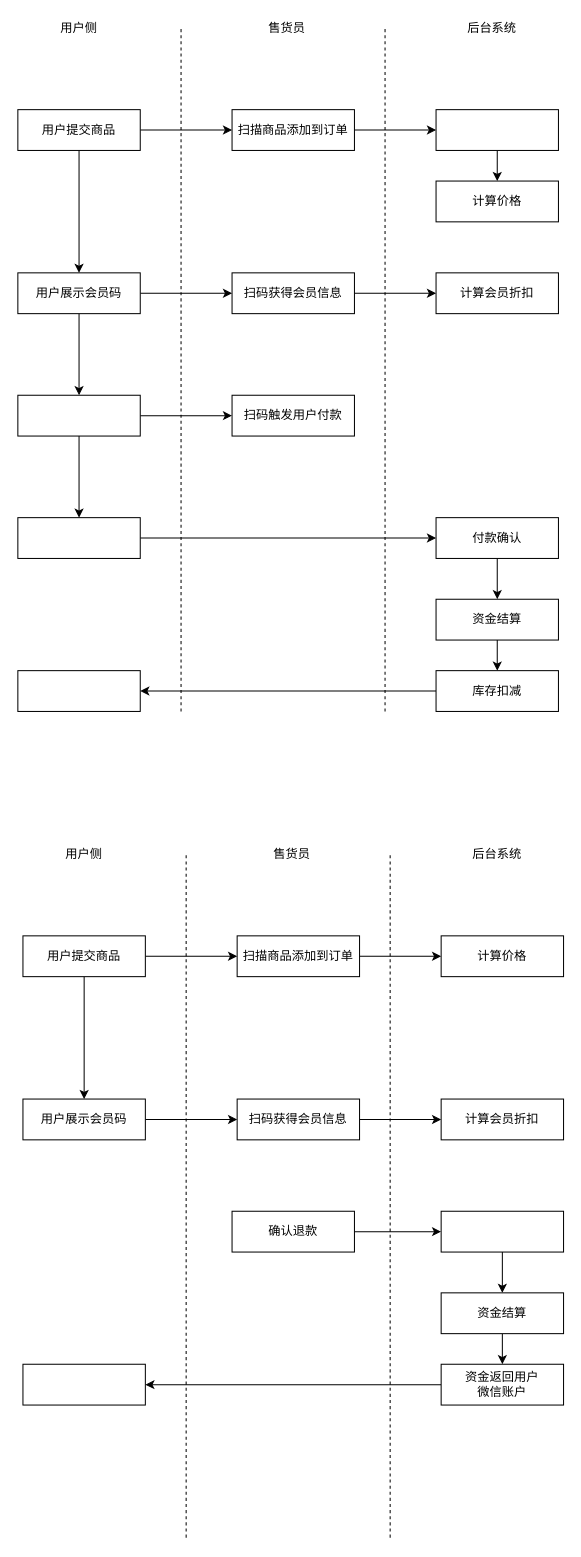
Some shapes in this 581 by 1557 pixel diagram are drawn without their labels. The centre of each missing label's shape, as x and y in pixels:
付款完成通知: pixel 78 690
完成支付: pixel 78 537
库存冻结: pixel 496 129
用户展示微信支付码: pixel 78 415
退款完成通知: pixel 83 1384
退款确认: pixel 502 1231
